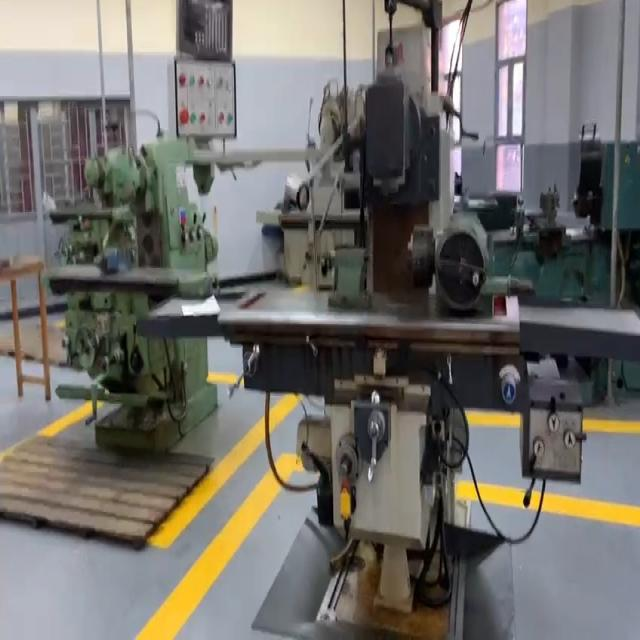fraiseuse: (174, 0, 624, 631)
